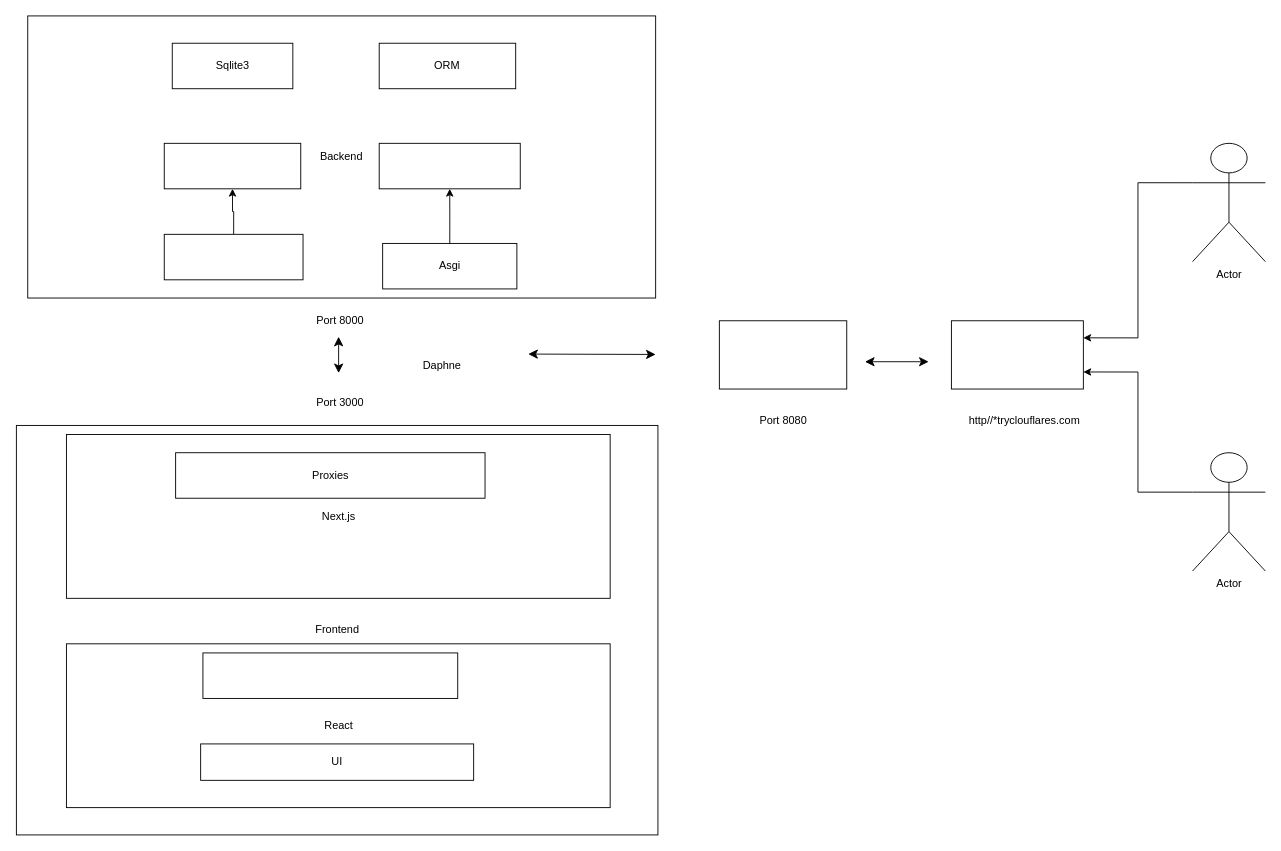
The diagram is 1281 pixels wide and 851 high, and some of its shapes have lost their labels. Each missing label, with the centre of its shape:
"API" goes at point 232,165.
"Caddy" goes at point 782,354.
"Cloudflares" goes at point 1016,354.
"Paths" goes at point 233,256.
"UX" goes at point 330,675.
"WS" goes at point 449,165.
